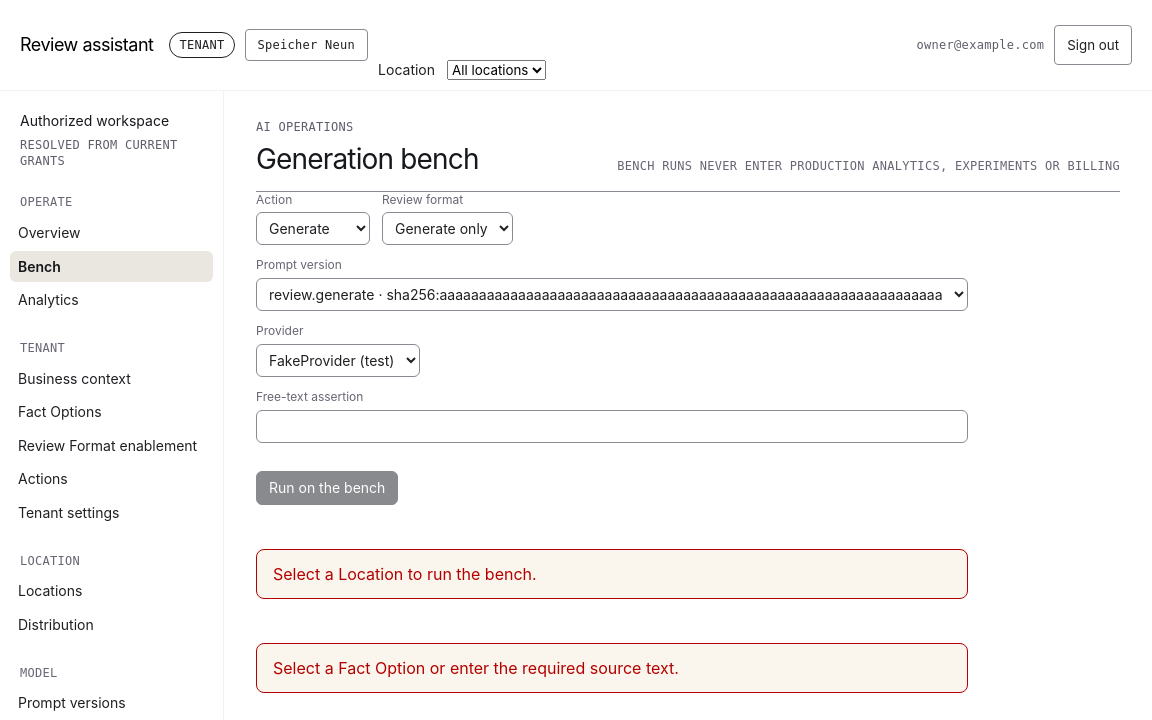
Test: Console forms offer the choices the data allows › does not run an impossible Bench Action/Format/Prompt combination
This screenshot has width=1152, height=720.
Check: the button "Run on the bench" is disabled, box [256,471,398,505]
Check: the text "Select a Location to run the bench." is shown, box [256,549,968,599]
Select "Paraphrase" in the dropdown labelled "Action" at (313, 229), box [256,212,370,245]
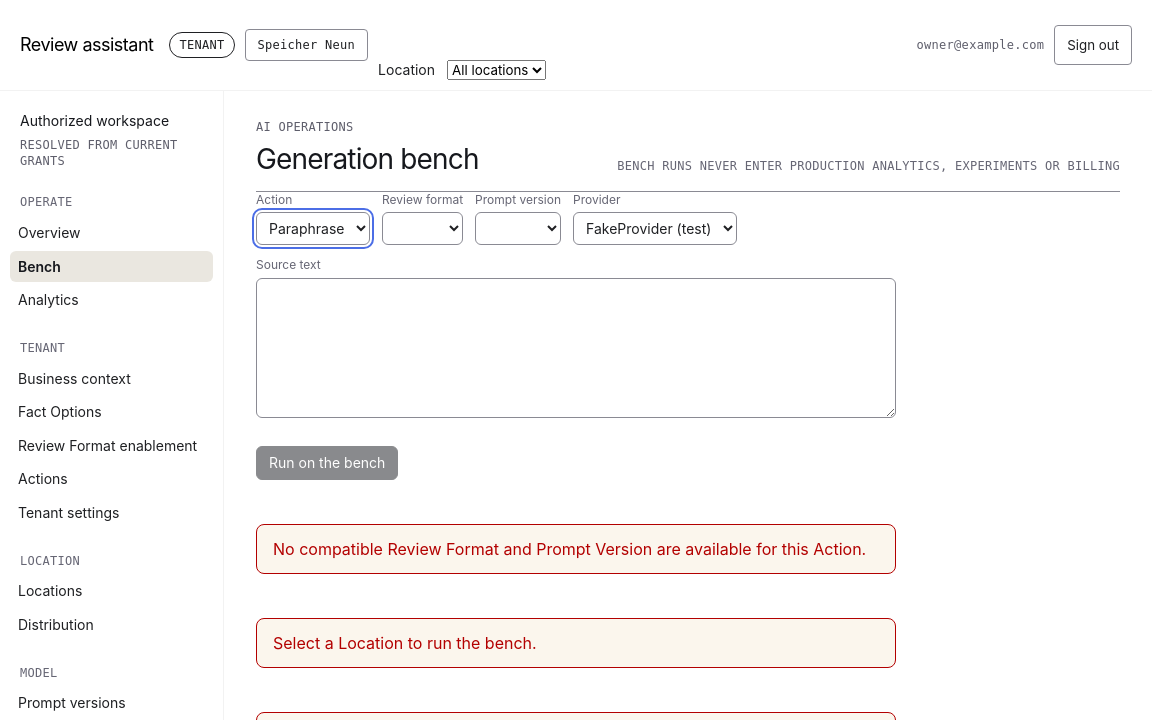
Check: the button "Run on the bench" is disabled, box [256,446,398,480]
Check: the text "No compatible Review Format and Prompt Version are available for this Action." is shown, box [256,524,896,574]
